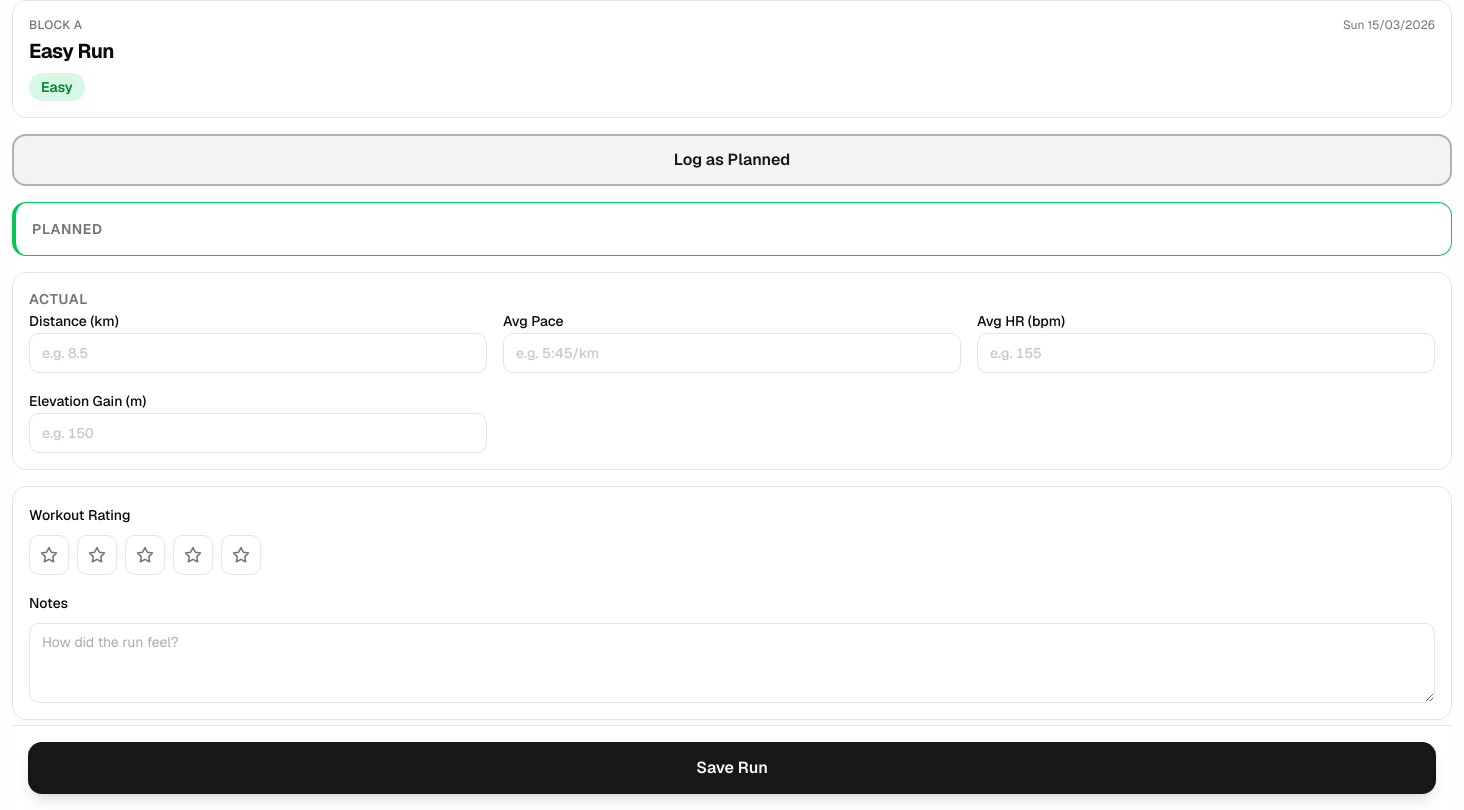
RunningLoggingForm — T180 elevation gain › save payload includes actualElevationGain when filled
This screenshot has width=1464, height=810.
Type "180" into the field with test id "actual-elevation-gain" at (258, 433), box x1=29 y1=413 x2=487 y2=453
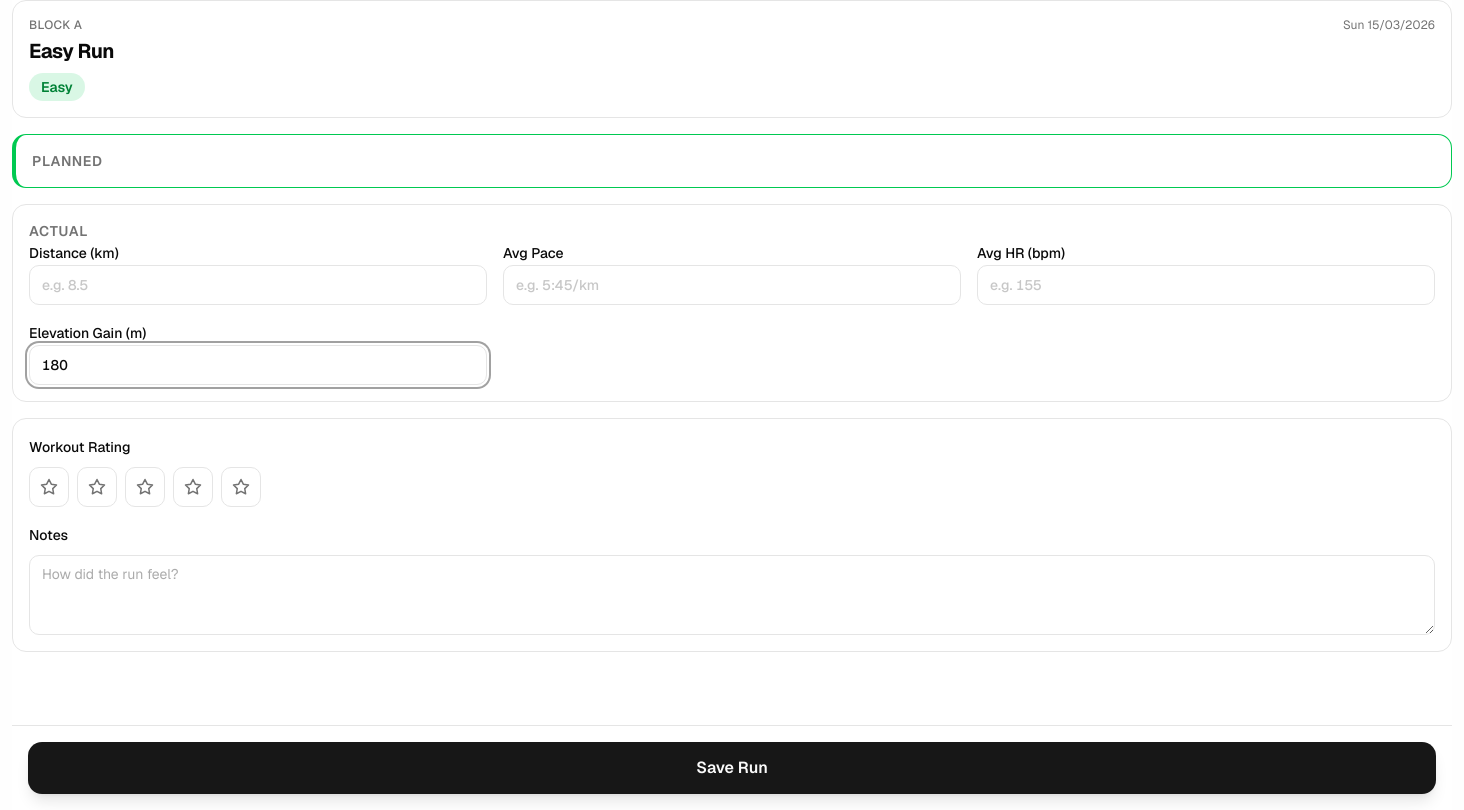
Click the button with test id "save-running-btn" at (732, 768), box x1=28 y1=742 x2=1436 y2=794
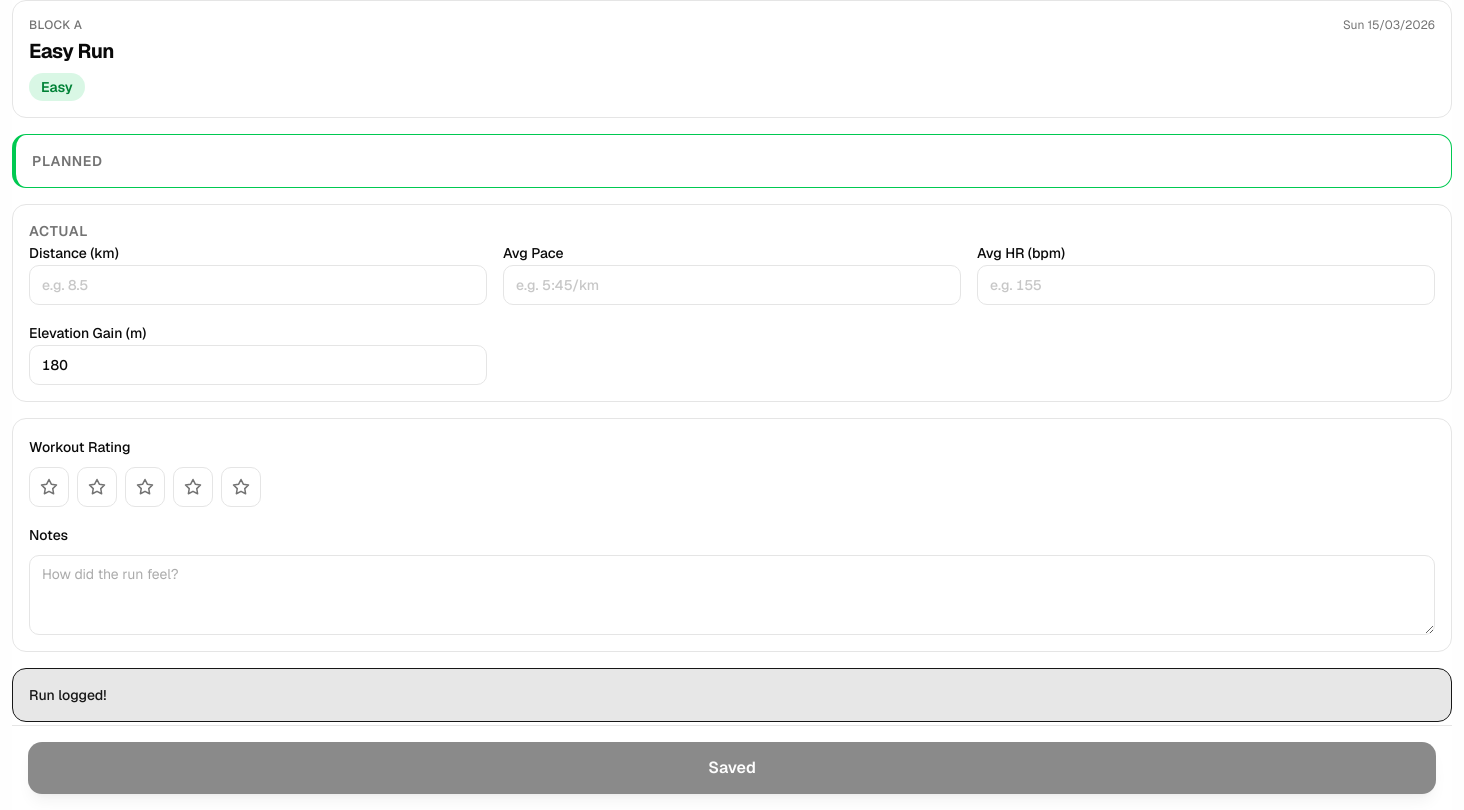
Check: the element with test id "save-success" is shown, box x1=12 y1=668 x2=1452 y2=722
